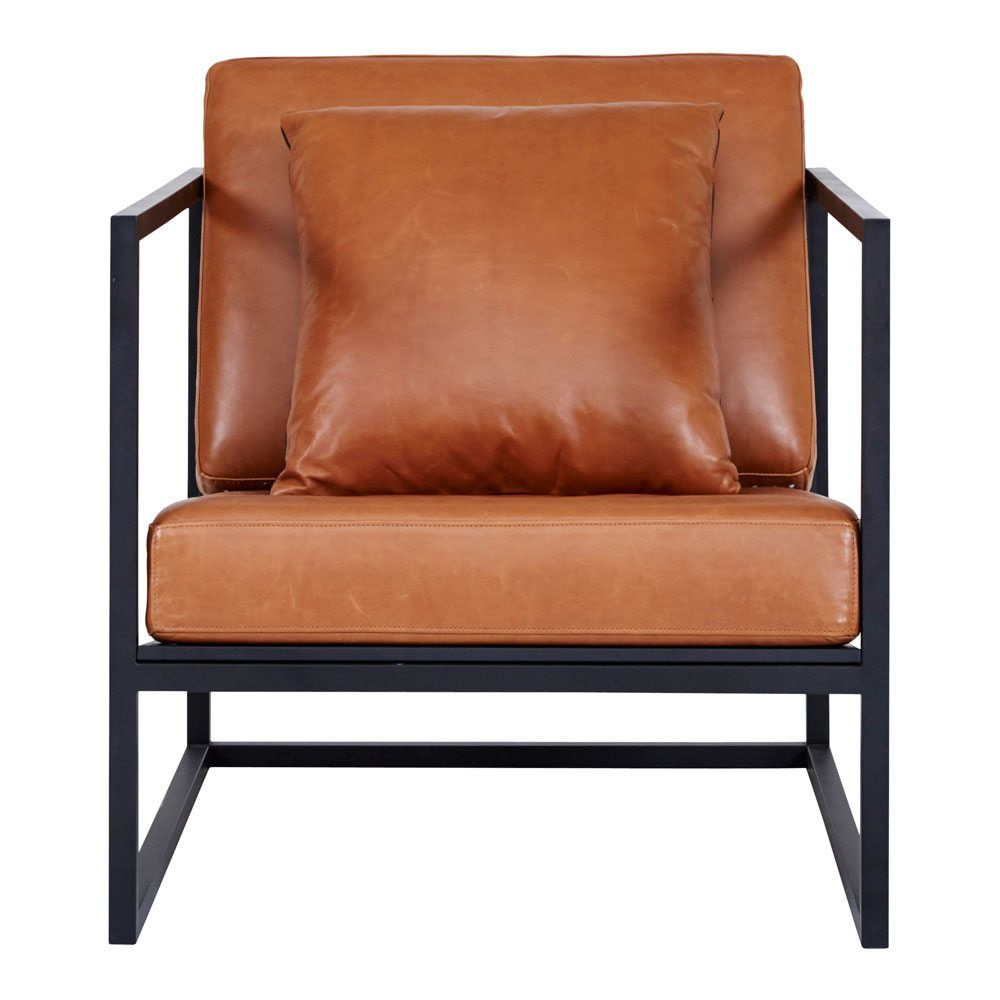chairs: (97, 50, 900, 962)
